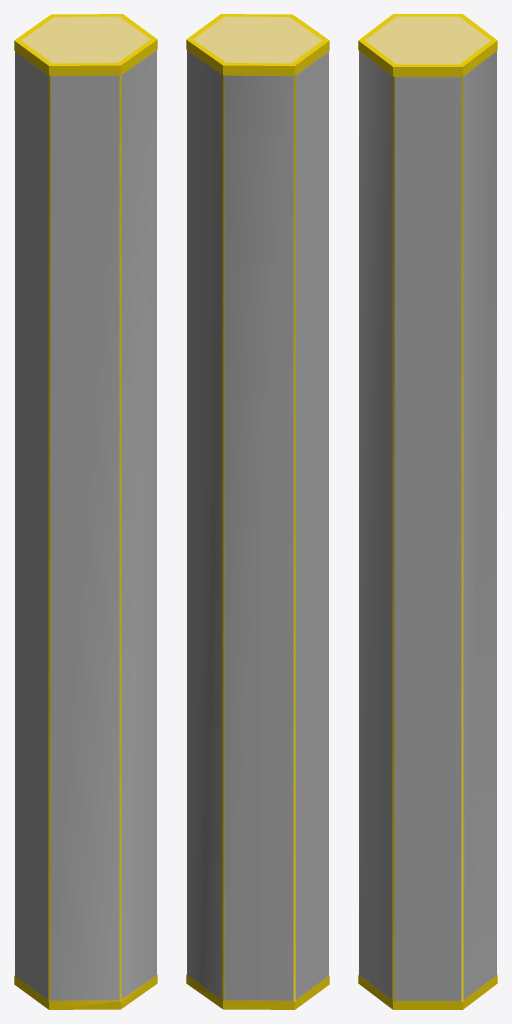
File: Tile_Activated.fbx
3 views of the same model, side by side, from view 1: azimuth 30°, elevation 25°; view 2: azimuth 150°, elevation 25°; view 3: azimuth 270°, elevation 25° (orthographic).
Visible parts, largest first — view 1: Tile_Hex_LP_Activated.002; view 2: Tile_Hex_LP_Activated.002; view 3: Tile_Hex_LP_Activated.002.
Part boxes in pixels (bbox=[...]): Tile_Hex_LP_Activated.002: bbox=[14, 14, 157, 1009]; Tile_Hex_LP_Activated.002: bbox=[186, 14, 329, 1009]; Tile_Hex_LP_Activated.002: bbox=[358, 14, 497, 1009].
Bounding box in the file's own units: 180 × 1493 × 200.
Materials: 1 (1 with a texture image).
